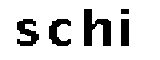c: (47, 18, 74, 48)
h: (81, 7, 113, 50)
i: (117, 6, 138, 50)
s: (13, 18, 39, 51)
